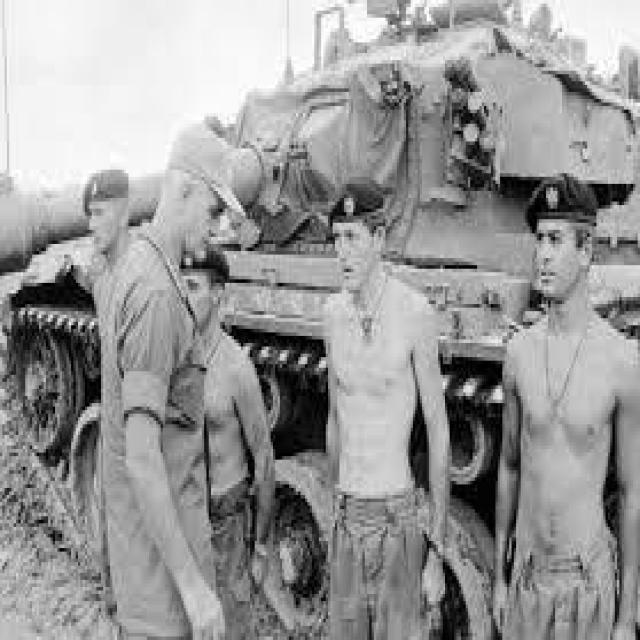Tanks: (19, 5, 574, 603)
